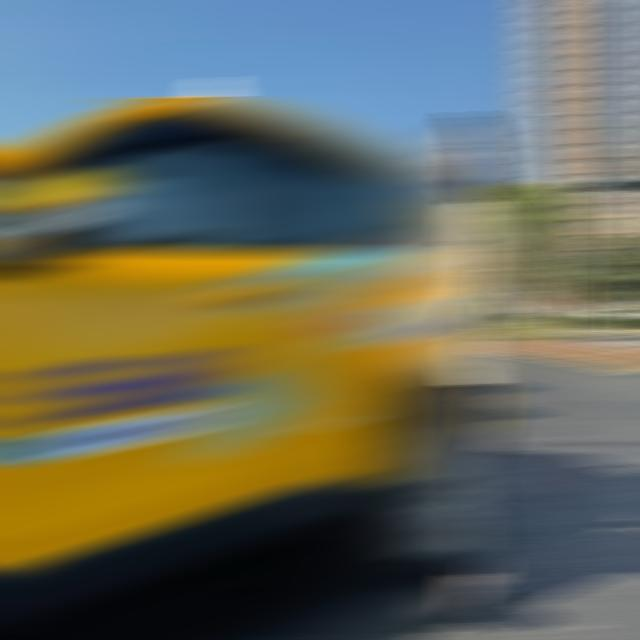Taxi: (0, 100, 470, 625)
